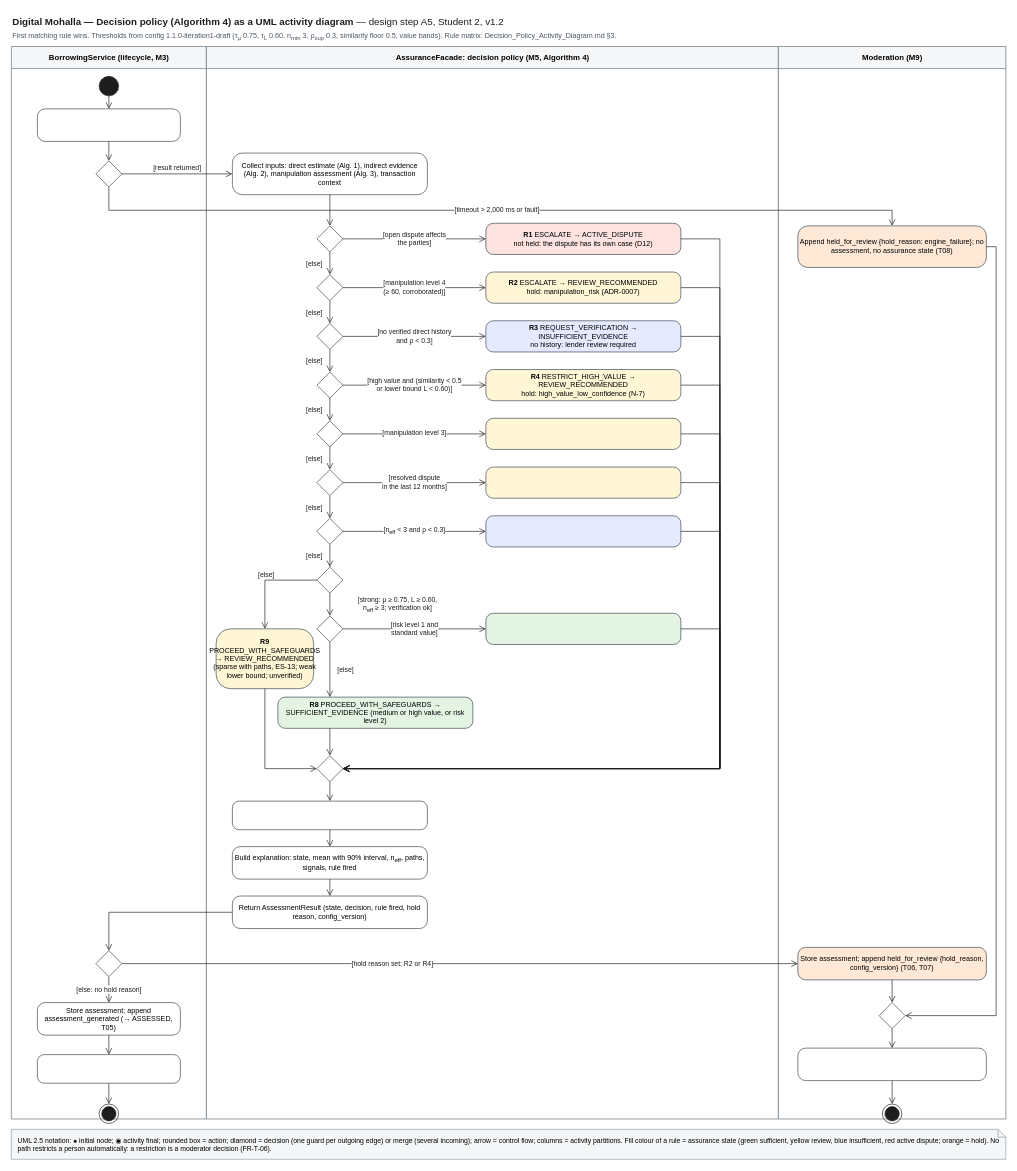
This 1017x1171 diagram has some shape labels left out. Each missing label, with the centre of its shape:
"Call assess(request); start 2,000 ms timer" belongs at (x=108, y=124).
"Notify the lender with the evidence summary (UC-B6)" belongs at (x=108, y=1068).
"Open escalation case with evidence trail (D6); notify moderators" belongs at (x=891, y=1064).
"R5 REQUEST_VERIFICATION → REVIEW_RECOMMENDED" belongs at (x=583, y=433).
"R6_DISPUTE PROCEED_WITH_SAFEGUARDS → REVIEW_RECOMMENDED (ES-03)" belongs at (x=583, y=482).
"R6_SPARSE REQUEST_VERIFICATION → INSUFFICIENT_EVIDENCE (ADR-0008)" belongs at (x=583, y=531).
"R7 PROCEED → SUFFICIENT_EVIDENCE" belongs at (x=583, y=628).
"Select safeguards (value band, interval width)" belongs at (x=329, y=815).
